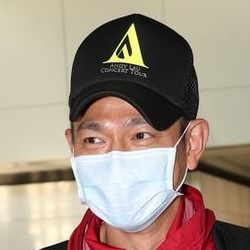mask: (66, 144, 181, 233)
